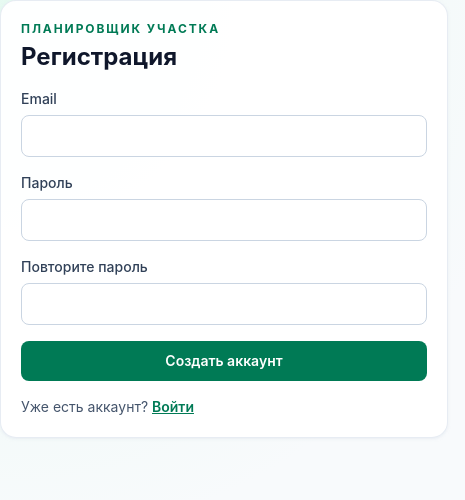
Test: AuthForm › does not submit invalid registration data
Type "invalid-email" into the field labelled "Email" at {"x": 224, "y": 136}, box x1=21 y1=115 x2=427 y2=157
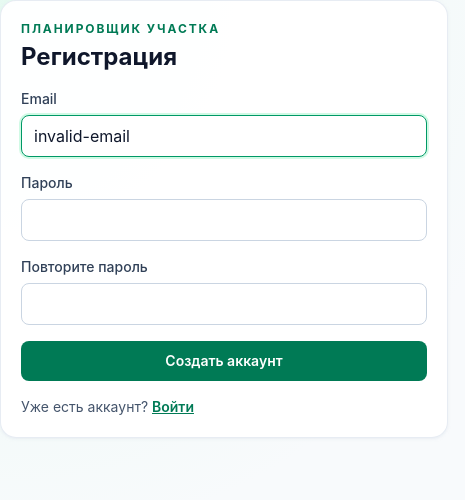
Click the button "Создать аккаунт" at {"x": 224, "y": 361}, box x1=21 y1=341 x2=427 y2=381
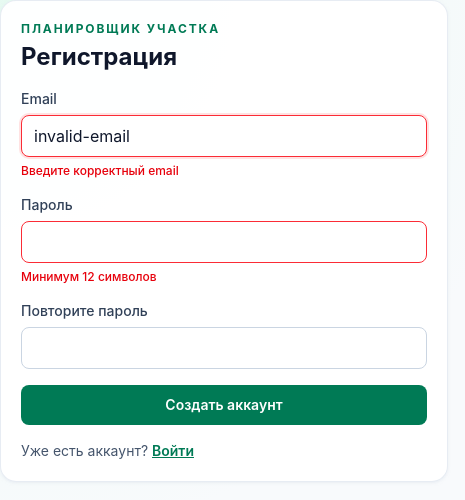
Result: the text "Введите корректный email" is shown at x1=21 y1=163 x2=179 y2=178
